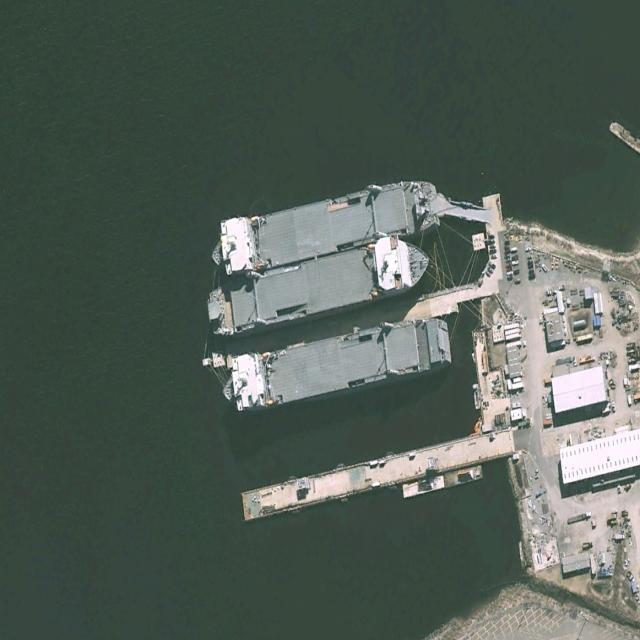Cargo: (219, 306, 453, 425), (203, 231, 434, 347), (207, 167, 442, 279)
